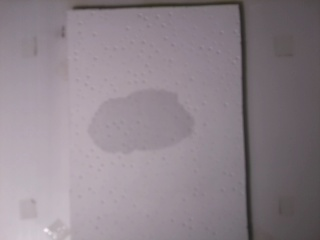Water_detected: (101, 102, 184, 151)
